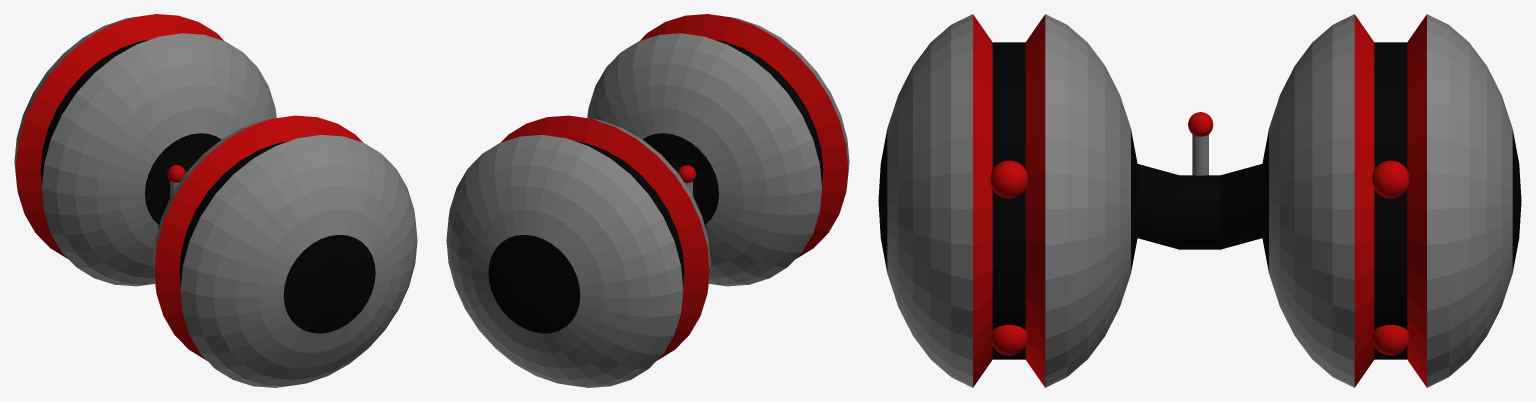
The model's file is Minion B.fbx.
The picture shows the model from 3 angles, left to right: view 1: azimuth 30°, elevation 25°; view 2: azimuth 150°, elevation 25°; view 3: azimuth 270°, elevation 25°; orthographic projection. The views are drawn at different scales.
Parts seen in each view (by area): view 1: Sphere; view 2: Sphere; view 3: Sphere.
Part boxes in pixels (bbox=[...]): Sphere: bbox=[14, 14, 417, 387]; Sphere: bbox=[446, 14, 849, 387]; Sphere: bbox=[878, 14, 1521, 387].
Size of the model in its own units: 196 by 196 by 337.
